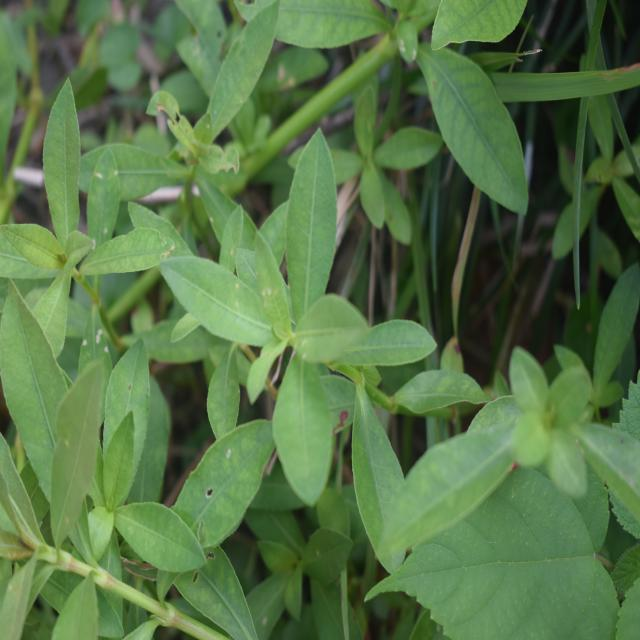Alligatorweed: (163, 142, 456, 548)
